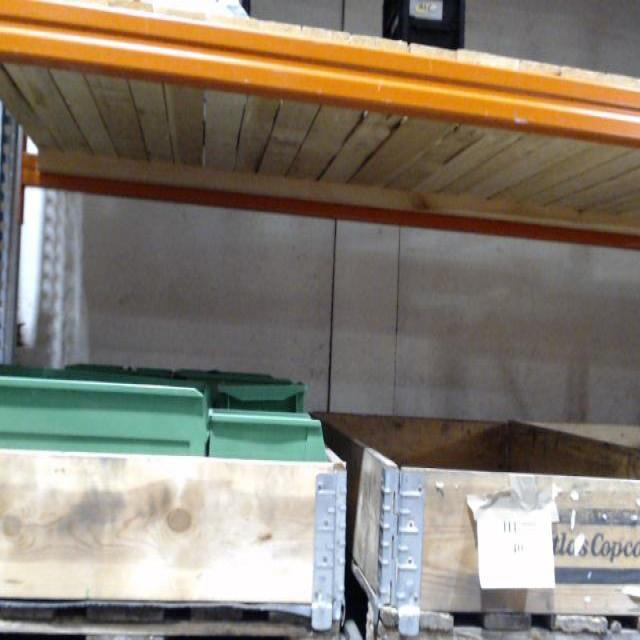pallet: (345, 559, 639, 640), (4, 582, 352, 635)
